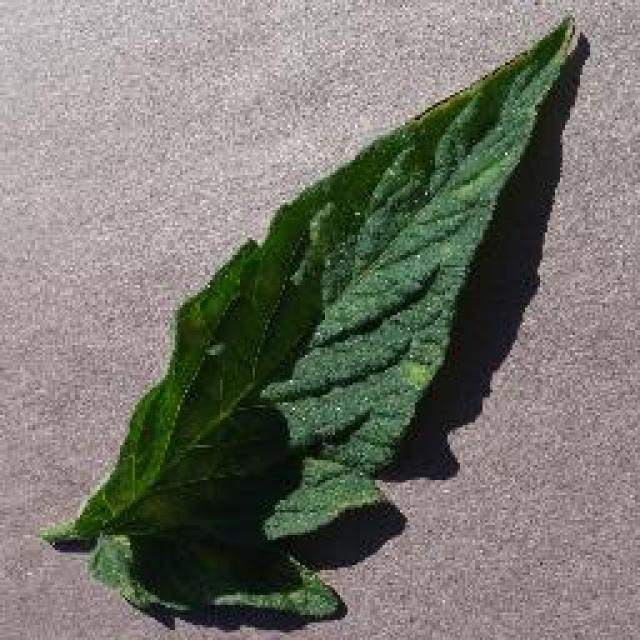Tomato___Leaf_Mold: (42, 20, 588, 618)
